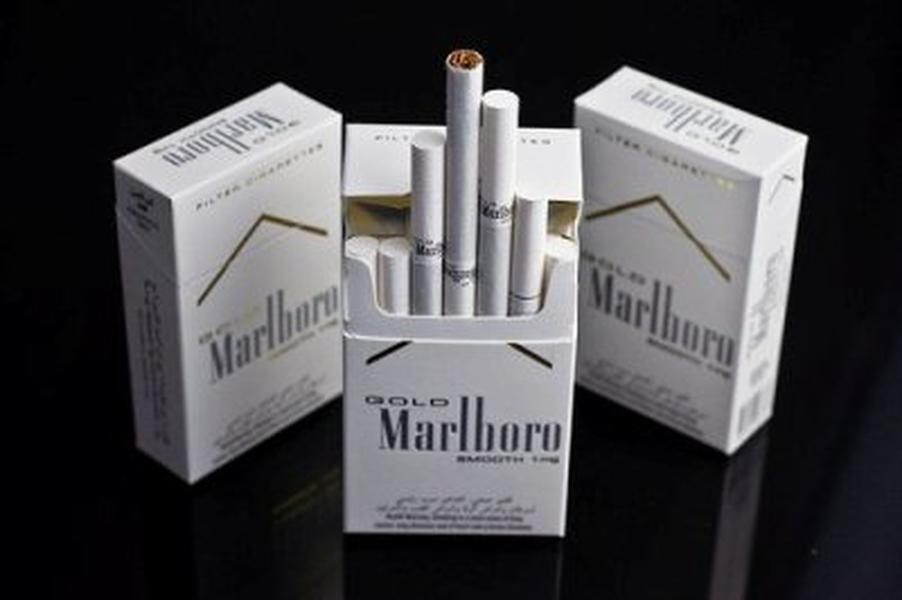marlboro_gold: (345, 290, 570, 534), (178, 146, 345, 404), (574, 157, 751, 394)
